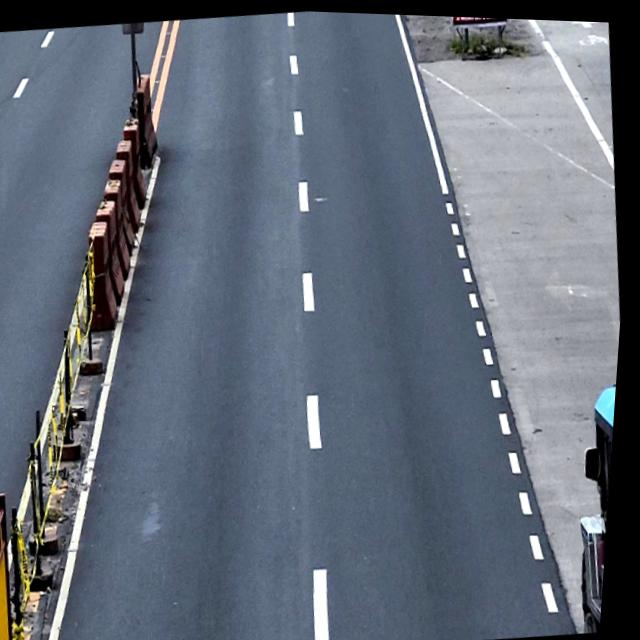Jeep: (561, 374, 621, 629)
